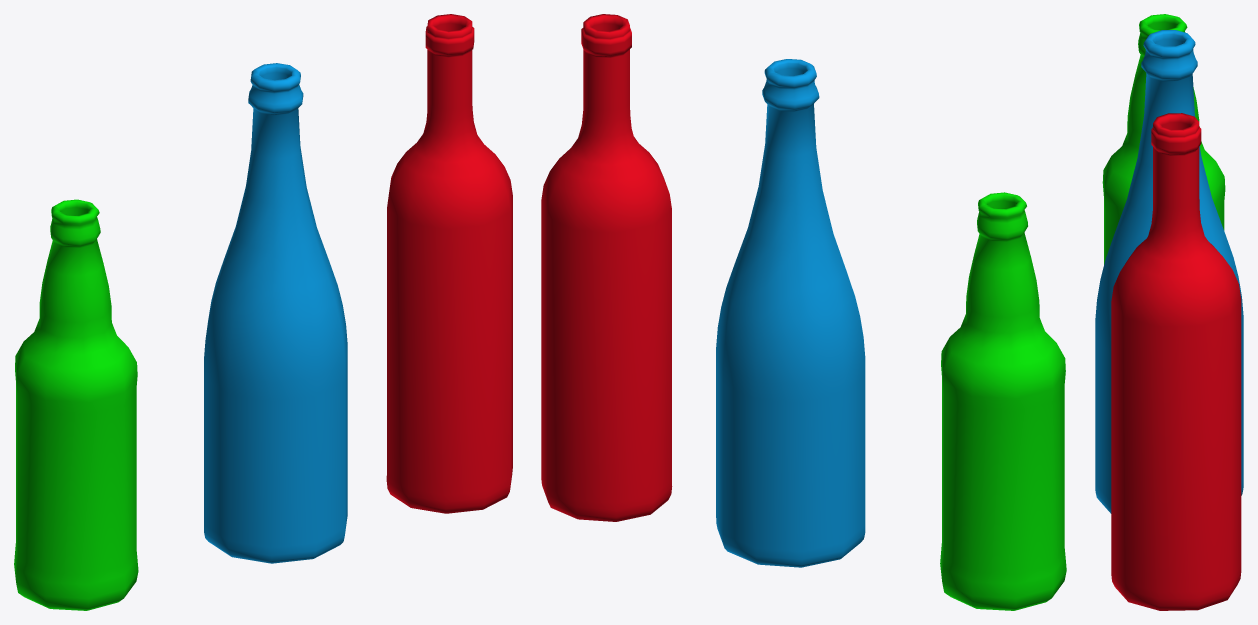
The model's file is BOTLLE .fbx.
3 renders of one model, left to right at view 1: azimuth 30°, elevation 25°; view 2: azimuth 150°, elevation 25°; view 3: azimuth 270°, elevation 25°, orthographic.
Parts seen in each view (by area): view 1: Curve.002_Mesh.001, Curve_Mesh.001, beeeer_Mesh; view 2: Curve.002_Mesh.001, Curve_Mesh.001, beeeer_Mesh; view 3: Curve_Mesh.001, Curve.002_Mesh.001, beeeer_Mesh.
Part boxes in pixels (<box>): Curve.002_Mesh.001: <box>204,63,347,563</box>; Curve_Mesh.001: <box>386,14,512,513</box>; beeeer_Mesh: <box>14,199,138,610</box>; Curve.002_Mesh.001: <box>716,59,865,567</box>; Curve_Mesh.001: <box>541,14,672,521</box>; beeeer_Mesh: <box>940,192,1066,610</box>; Curve_Mesh.001: <box>1111,113,1241,610</box>; Curve.002_Mesh.001: <box>1095,30,1243,513</box>; beeeer_Mesh: <box>1102,14,1225,264</box>.
Bounding box in the file's own units: 745 × 677 × 195.
